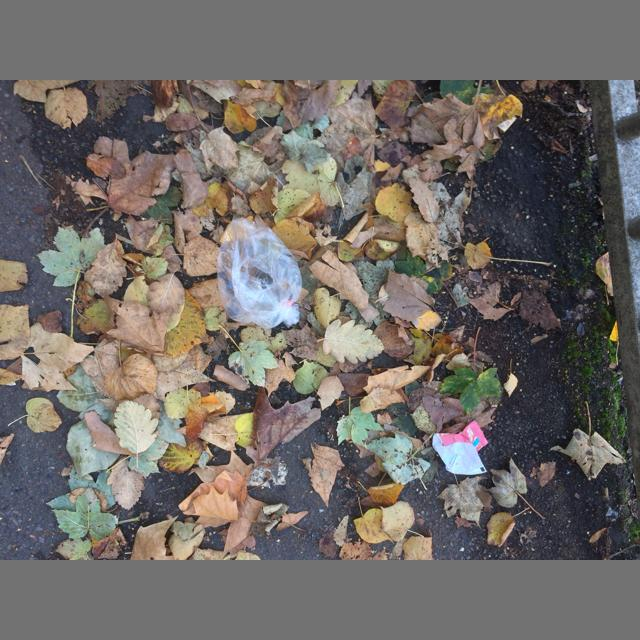litter: (217, 217, 302, 329), (432, 420, 488, 475)
